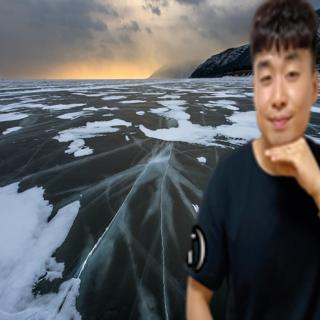Wait: (261, 133, 320, 201)
